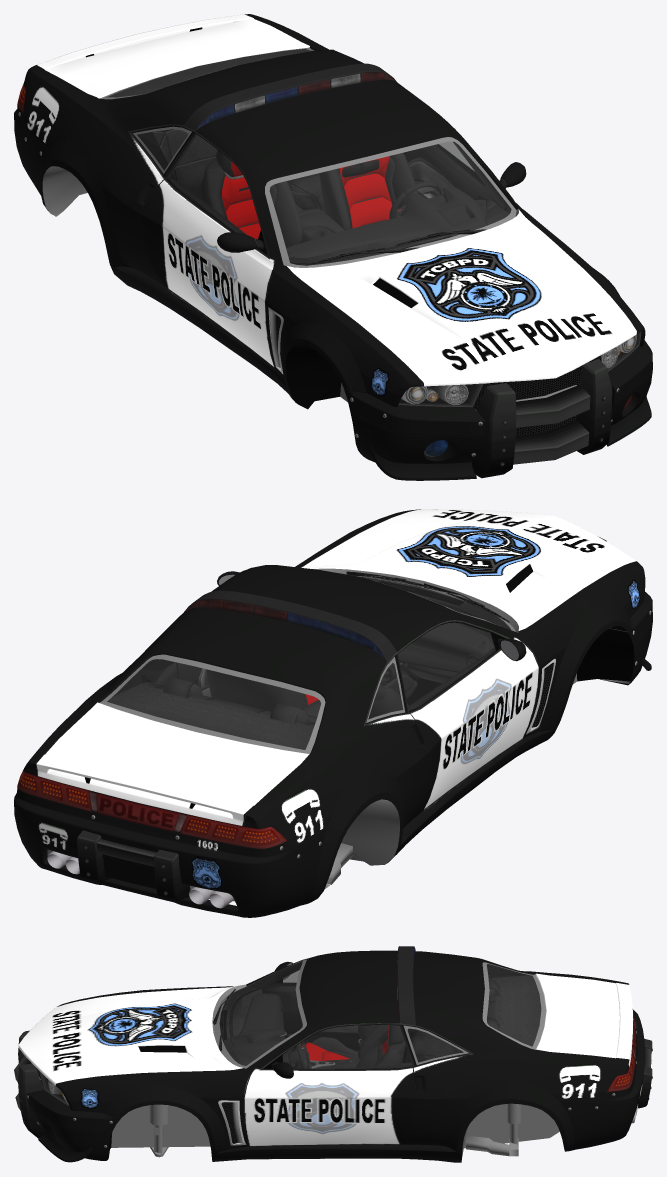
File: Police_Ford.glb
3 renders of one model, top to bottom at view 1: azimuth 30°, elevation 25°; view 2: azimuth 150°, elevation 25°; view 3: azimuth 270°, elevation 25°, orthographic. The views are drawn at different scales.
Visible parts, largest first — view 1: Object_17, Object_33, Object_21, Object_16, Object_23, Object_31, Object_24, Object_28, Object_19, Object_34; view 2: Object_17, Object_33, Object_21, Object_23, Object_31, Object_16, Object_26, Object_25, Object_34, Object_32, Object_28; view 3: Object_17, Object_33, Object_31, Object_23, Object_16, Object_21, Object_28, Object_24, Object_26, Object_25.
Part boxes in pixels (box(x1,y1,x2,y2)): Object_17: box(14, 14, 652, 480); Object_33: box(108, 49, 640, 406); Object_21: box(85, 27, 632, 478); Object_16: box(201, 150, 508, 258); Object_23: box(107, 49, 511, 265); Object_31: box(42, 47, 576, 410); Object_24: box(221, 156, 392, 239); Object_28: box(275, 278, 600, 436); Object_19: box(398, 331, 641, 407); Object_34: box(196, 72, 395, 130); Object_17: box(14, 509, 652, 917); Object_33: box(107, 573, 510, 749); Object_21: box(77, 537, 634, 900); Object_23: box(107, 577, 510, 749); Object_31: box(47, 568, 630, 889); Object_16: box(206, 622, 494, 722); Object_26: box(17, 769, 286, 848); Object_25: box(18, 770, 286, 848); Object_34: box(184, 599, 385, 660); Object_32: box(47, 574, 518, 908); Object_28: box(506, 564, 553, 727); Object_17: box(18, 950, 645, 1162); Object_33: box(39, 961, 540, 1105); Object_31: box(39, 959, 559, 1159); Object_23: box(219, 961, 541, 1069); Object_16: box(224, 993, 405, 1069); Object_21: box(14, 946, 652, 1156); Object_28: box(36, 1045, 237, 1143); Object_24: box(305, 1025, 389, 1060); Object_26: box(607, 1009, 635, 1091); Object_25: box(607, 1013, 634, 1091).
Size of the model in its own units: 2.53 by 1.62 by 6.24.
Materials: 21 (16 with a texture image).
